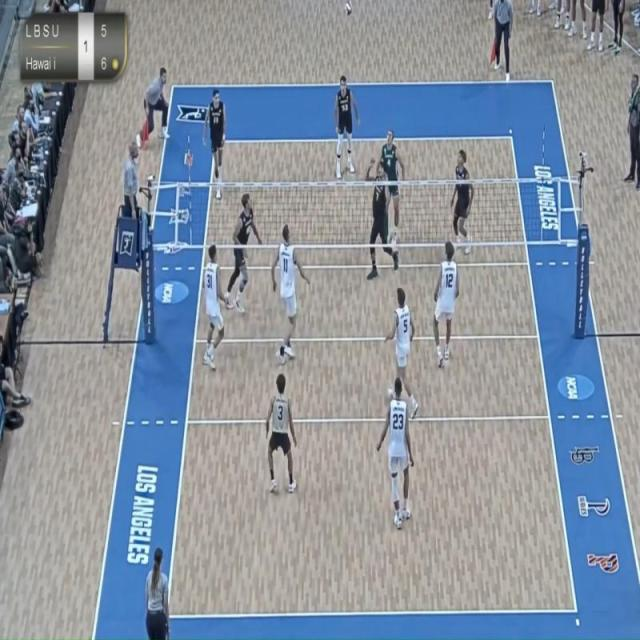volleyball: (340, 0, 354, 23)
